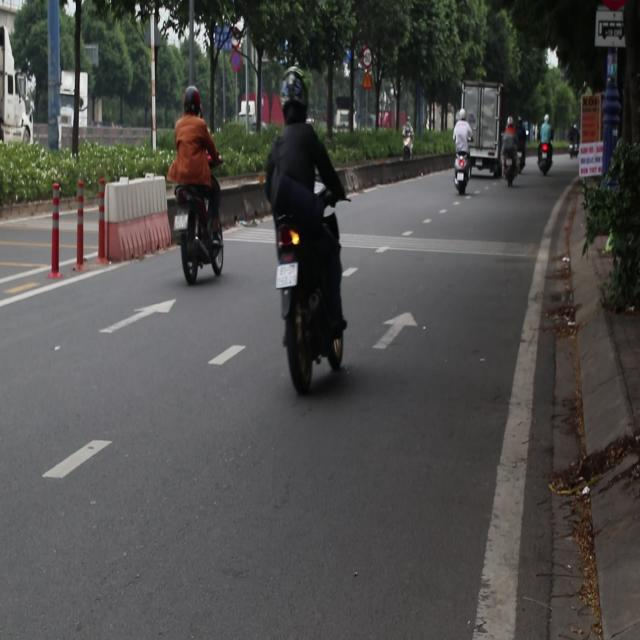motorbike: (268, 215, 362, 383), (172, 196, 250, 295), (392, 126, 423, 169), (448, 162, 476, 205), (513, 139, 531, 180), (509, 154, 519, 188), (543, 146, 549, 178)
truck: (53, 62, 119, 142), (456, 73, 504, 183), (0, 34, 41, 150)
